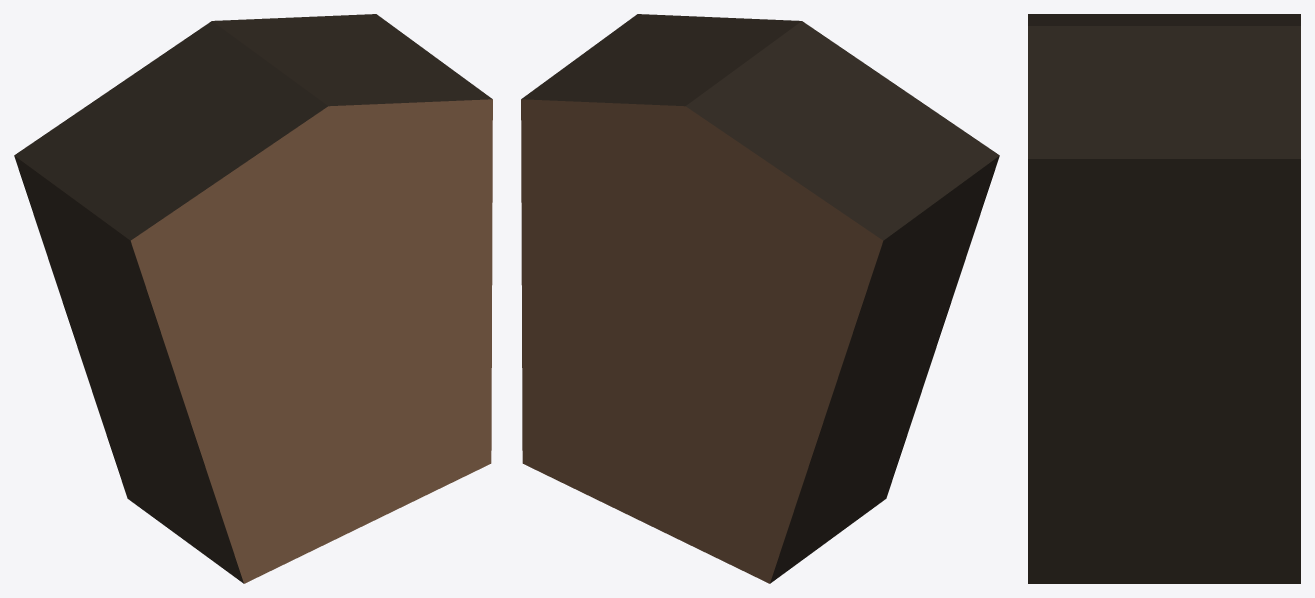
File: SM_DoorShard_02_31.fbx
3 renders of one model, left to right at view 1: azimuth 30°, elevation 25°; view 2: azimuth 150°, elevation 25°; view 3: azimuth 270°, elevation 25°, orthographic. The views are drawn at different scales.
Parts seen in each view (by area): view 1: SM_DoorShard_02_31; view 2: SM_DoorShard_02_31; view 3: SM_DoorShard_02_31.
Part boxes in pixels (<box>): SM_DoorShard_02_31: <box>14,14,492,583</box>; SM_DoorShard_02_31: <box>521,14,999,583</box>; SM_DoorShard_02_31: <box>1028,14,1300,583</box>.
Bounding box in the file's own units: 28.73 × 16 × 34.64.
